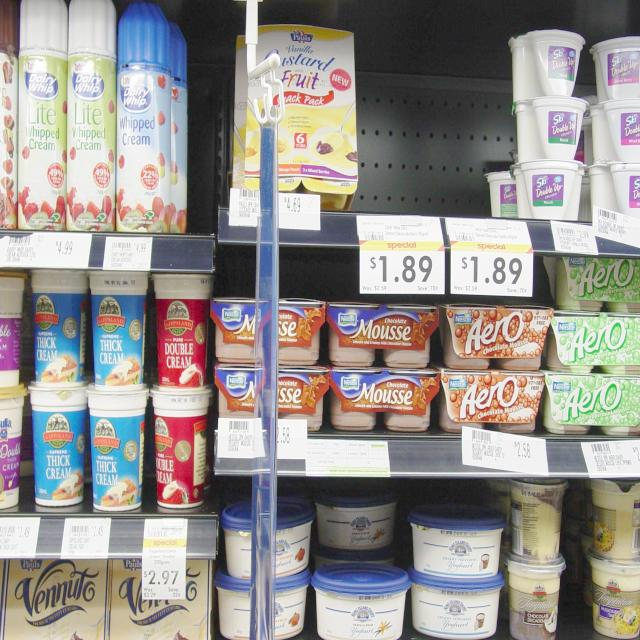empty_space: (361, 13, 487, 213), (187, 29, 229, 231)
